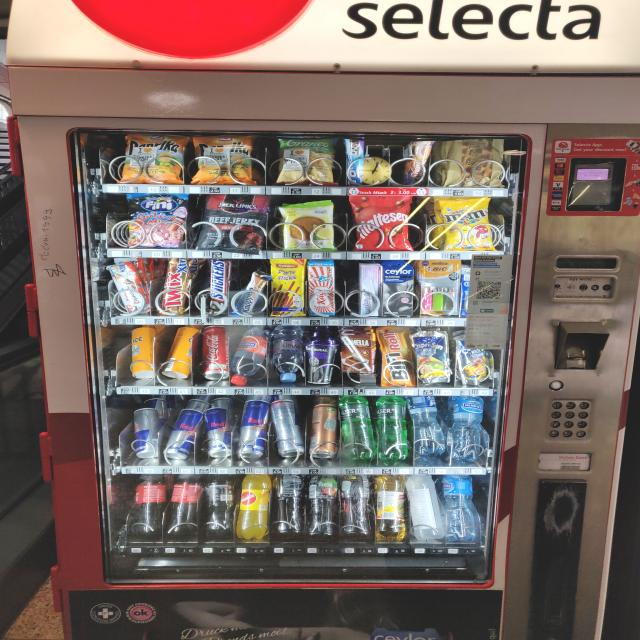bifi_roll__50__4251097402635: (380, 325, 414, 387)
bueno___43__4008400320328: (112, 261, 147, 315)
c-swiss_dosenabisicetea__33__9120025930135: (123, 324, 158, 380), (162, 327, 197, 381)
caferoyal_classicmacchiato__33__7617014164487: (306, 330, 342, 387)
caprisun_multivitamin__20__4000177605004: (413, 329, 458, 383), (456, 329, 497, 387)
coke__dose_33__54491472: (203, 326, 230, 380)
coke__flasche_50__54491472: (126, 471, 171, 541), (166, 474, 203, 538)
coke_zero_flasche_50__5449000131836: (201, 477, 239, 538)
comella_schokodrink__33__7613100037253: (339, 329, 376, 379)
fini_galaxymix_packung_100_1_8410525150364: (125, 192, 189, 248)
fuse_lemon__50__5449000235947: (336, 472, 378, 538)
fuse_peach__50__5449000236623: (304, 470, 339, 539), (271, 471, 305, 539)
fuse_peach_dose_33__5449000236623: (307, 402, 338, 461)
henniez_blau__33__7610235000442: (449, 393, 489, 463), (444, 475, 482, 544)
henniez_rot__33__7610235000442: (232, 325, 268, 385)
jacklinks_beefjerkyorginal__25__4047751730219: (199, 194, 270, 253)
jlbrichard_gauffre__90__5410495002000: (440, 136, 504, 188)
kagi_specialedition__50__7610046000259: (305, 260, 339, 316)
knoppers_riegel____4035800488808: (232, 269, 268, 319)
malburner_partysticks__40__7610200279682: (270, 259, 306, 317)
maltesers___100__5000159023061: (351, 193, 418, 252)
mnms_gelb__45__40111445: (438, 194, 493, 252)
ramseier_schorle__50__7610057012456: (373, 471, 408, 539)
redbull___33__90162909: (269, 398, 312, 458), (161, 406, 203, 460), (235, 400, 269, 459), (199, 402, 234, 458), (125, 409, 161, 460)
sinalco_orange__50__4018715000112: (231, 472, 272, 542)
snickers___50__5000159461122: (205, 258, 232, 315)
twix___50__5000159459228: (157, 256, 195, 318)
valser_classic__50__76404160: (338, 397, 377, 463), (376, 394, 408, 461)
vitaminwell_reload__50__7350042716388: (404, 476, 444, 540)
zweifel_graneochilli__100__7610095184009: (267, 133, 339, 189)
zweifel_paprika__90__7610095013002: (188, 132, 256, 187), (118, 132, 184, 183)
